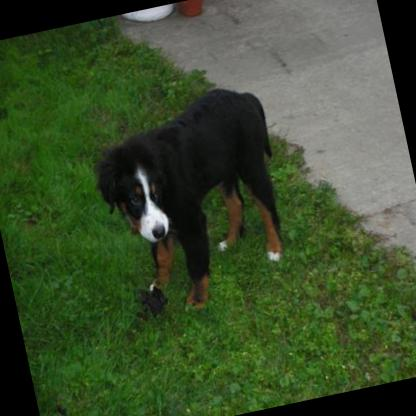Bernese_mountain_dog: (80, 76, 302, 328)
